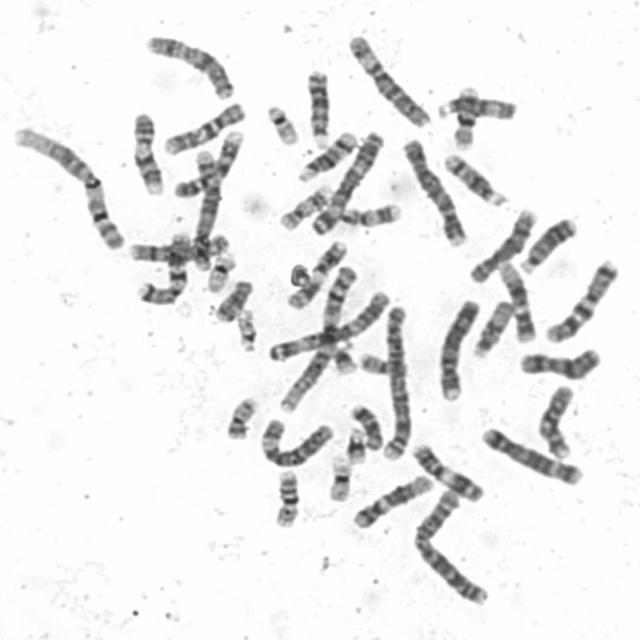A1: (8, 124, 128, 252), (275, 263, 362, 415)
A2: (408, 486, 494, 607), (377, 301, 411, 462)
A3: (264, 285, 392, 364), (308, 127, 387, 237)
B4: (400, 136, 468, 248), (434, 295, 483, 402)
B5: (478, 424, 584, 486), (189, 147, 221, 271)
C10: (158, 99, 248, 156), (533, 381, 577, 460)
C11: (282, 235, 350, 311), (407, 441, 485, 504)
C12: (348, 470, 436, 530), (494, 257, 537, 344)
C6: (344, 30, 432, 131), (254, 414, 336, 469)
C7: (542, 256, 620, 344), (131, 230, 192, 306)
C8: (464, 204, 540, 285), (125, 232, 232, 264)
C9: (168, 125, 246, 200), (130, 110, 164, 198)
D13: (517, 213, 579, 274), (303, 66, 331, 148)
D14: (440, 149, 509, 209), (293, 128, 359, 184)
D15: (469, 298, 517, 360), (434, 94, 519, 122)
E16: (269, 468, 302, 528), (450, 84, 480, 150)
E17: (275, 180, 334, 232), (336, 200, 402, 228)
E18: (210, 276, 254, 323), (347, 400, 385, 452)
F19: (203, 248, 238, 292), (324, 452, 354, 503)
F20: (222, 392, 260, 442), (355, 348, 409, 378)
G21: (330, 338, 358, 375), (343, 424, 368, 465)
G22: (263, 100, 302, 148), (234, 306, 258, 354)
X: (142, 31, 236, 101), (516, 344, 602, 380)
